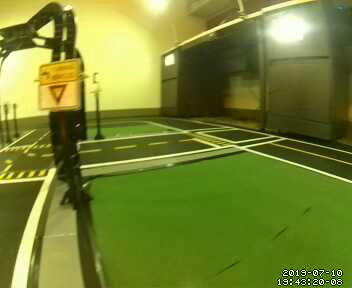Turn Yield: (38, 59, 81, 111)
